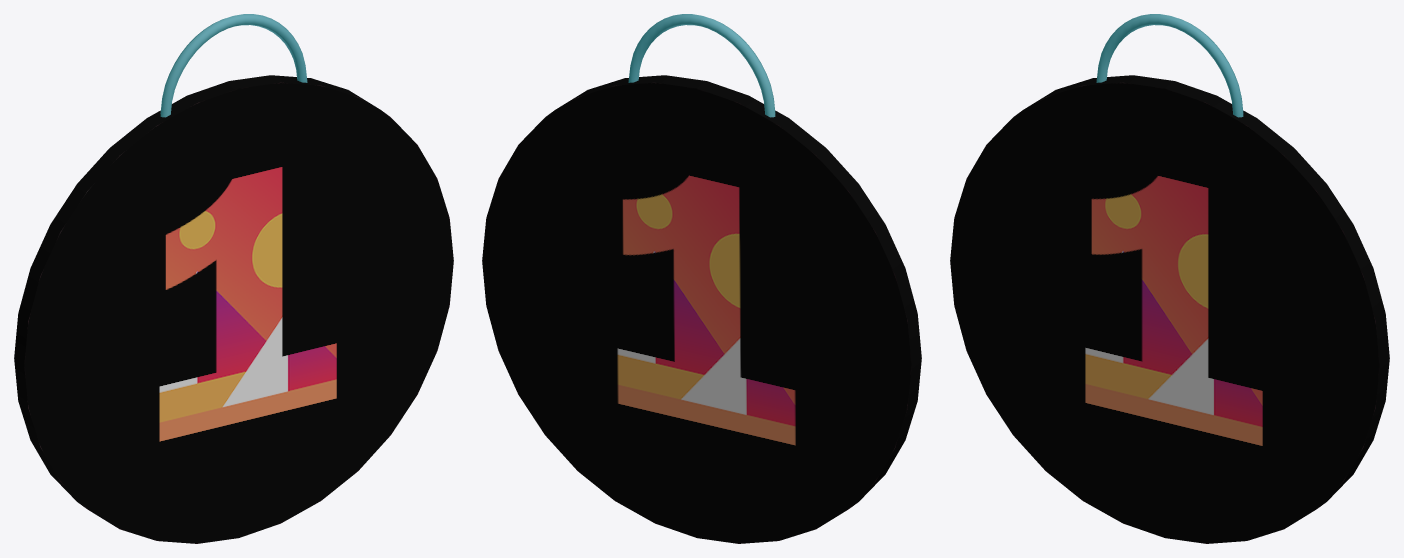
File: pinata_poap.glb
3 views of the same model, side by side, from view 1: azimuth 30°, elevation 25°; view 2: azimuth 150°, elevation 25°; view 3: azimuth 330°, elevation 25° (orthographic).
Visible parts, largest first — view 1: POAP, Torus.002; view 2: POAP, Torus.002; view 3: POAP, Torus.002.
Part boxes in pixels (box(x1,y1,x2,y2)): POAP: box(14, 75, 453, 543); Torus.002: box(160, 14, 307, 117); POAP: box(482, 75, 921, 543); Torus.002: box(628, 14, 775, 117); POAP: box(950, 75, 1389, 543); Torus.002: box(1096, 14, 1243, 117).
Size of the model in its own units: 0.6271 by 0.7235 by 0.0257.
Materials: 2 (2 with a texture image).
